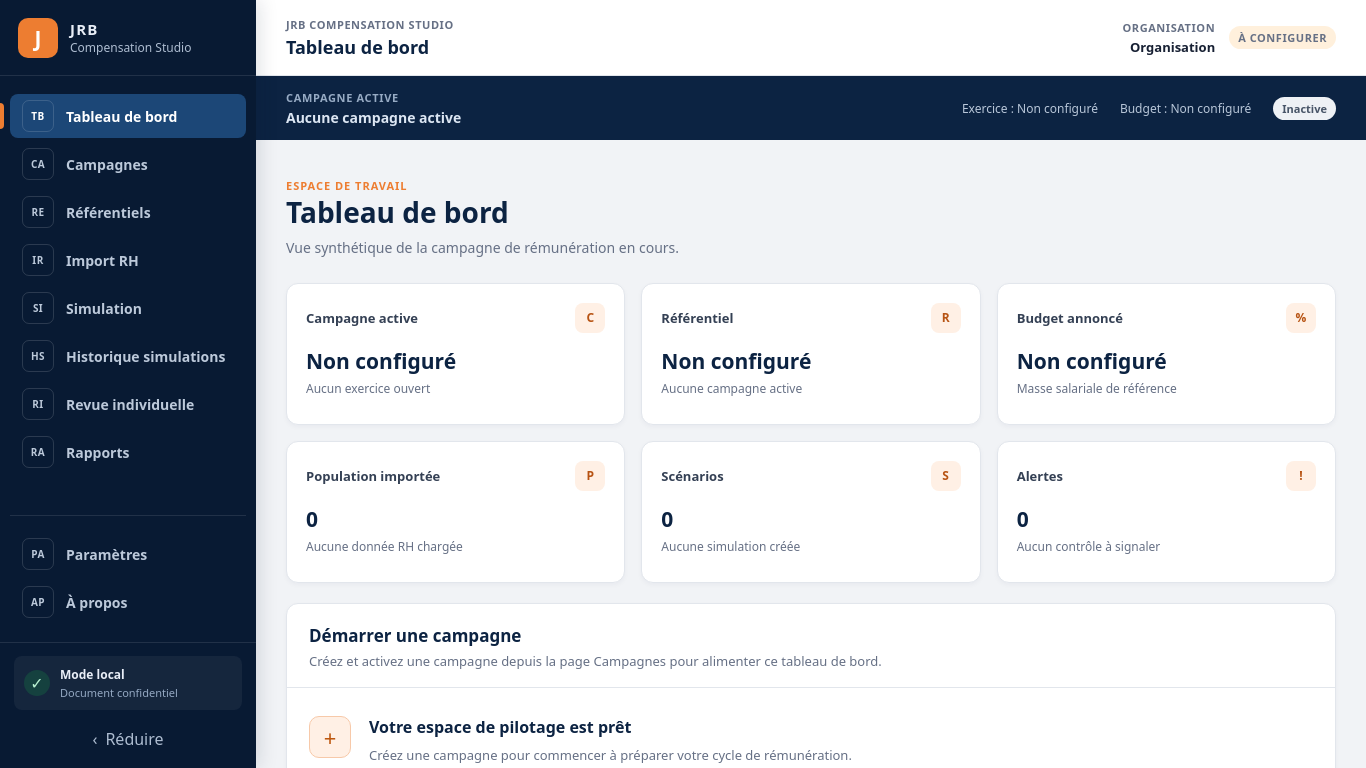
Scenario: référentiels — interface › affiche l’état vide sans campagne
Expected: the navigation bar named "Navigation principale" is shown, left=0, top=76, right=256, bottom=642
Click the button "RE Référentiels".
click(128, 212)  # box left=10, top=190, right=246, bottom=234
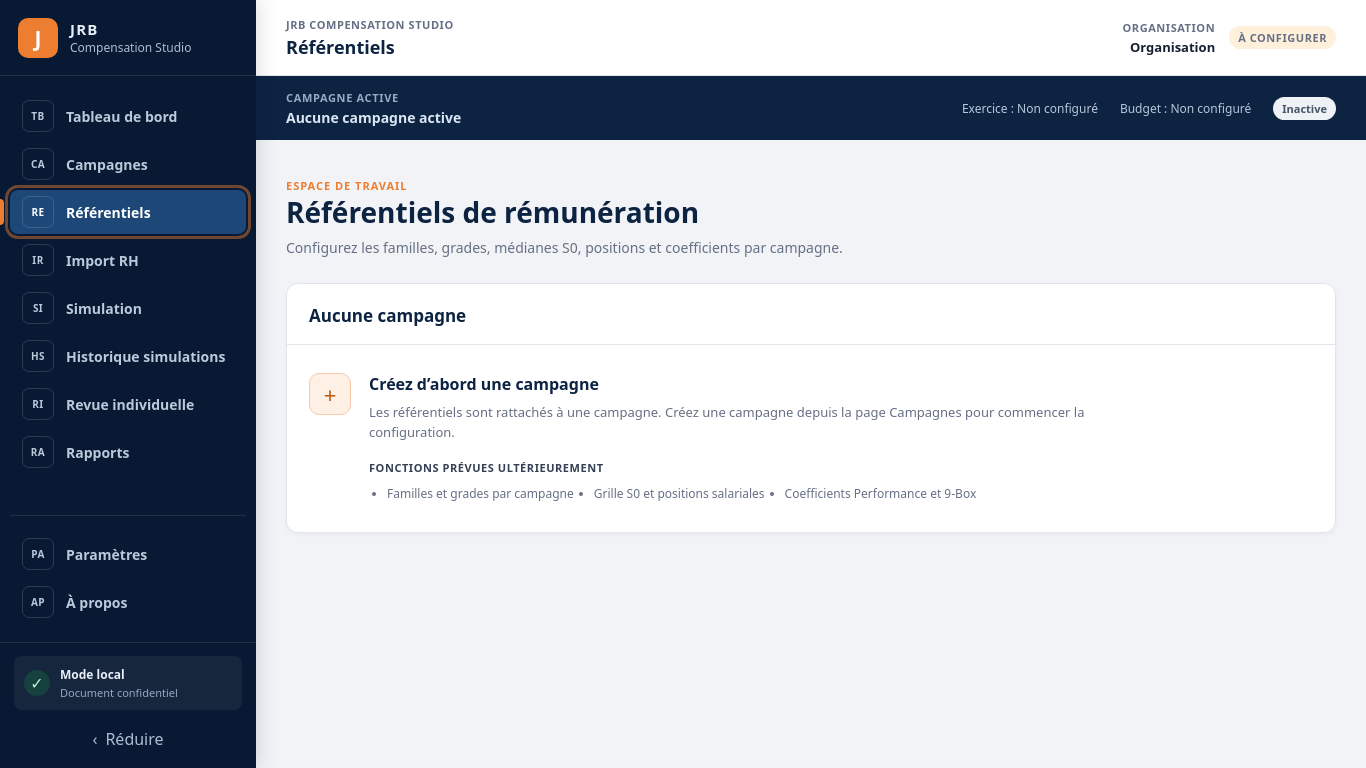
Now the heading "Créez d’abord une campagne" is shown, box left=369, top=373, right=599, bottom=395
